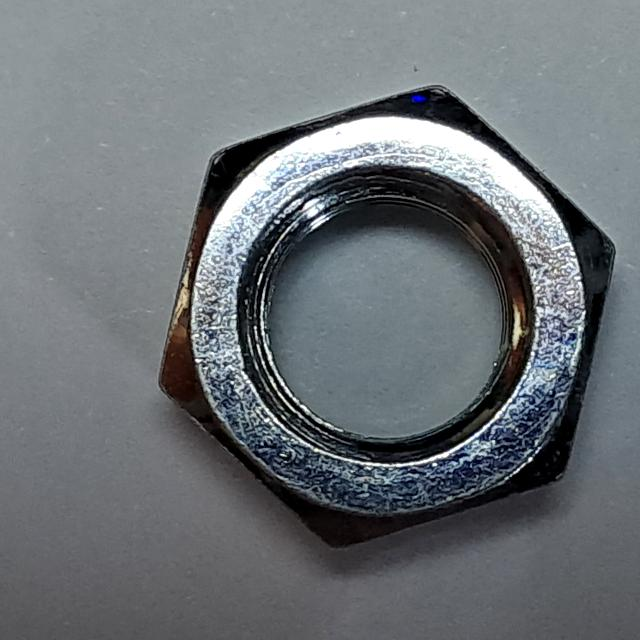Excellent: (138, 72, 628, 565)
